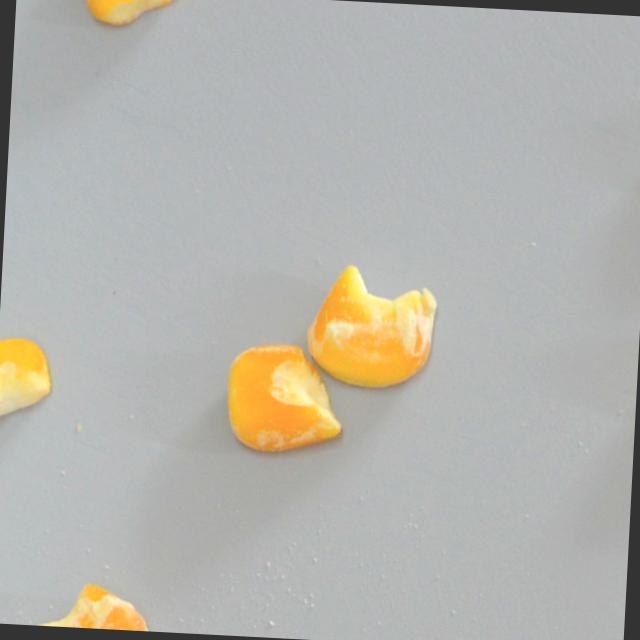no_canjicado: (0, 335, 54, 425)
pelicula: (304, 260, 440, 392), (220, 339, 346, 459), (24, 575, 155, 632)
